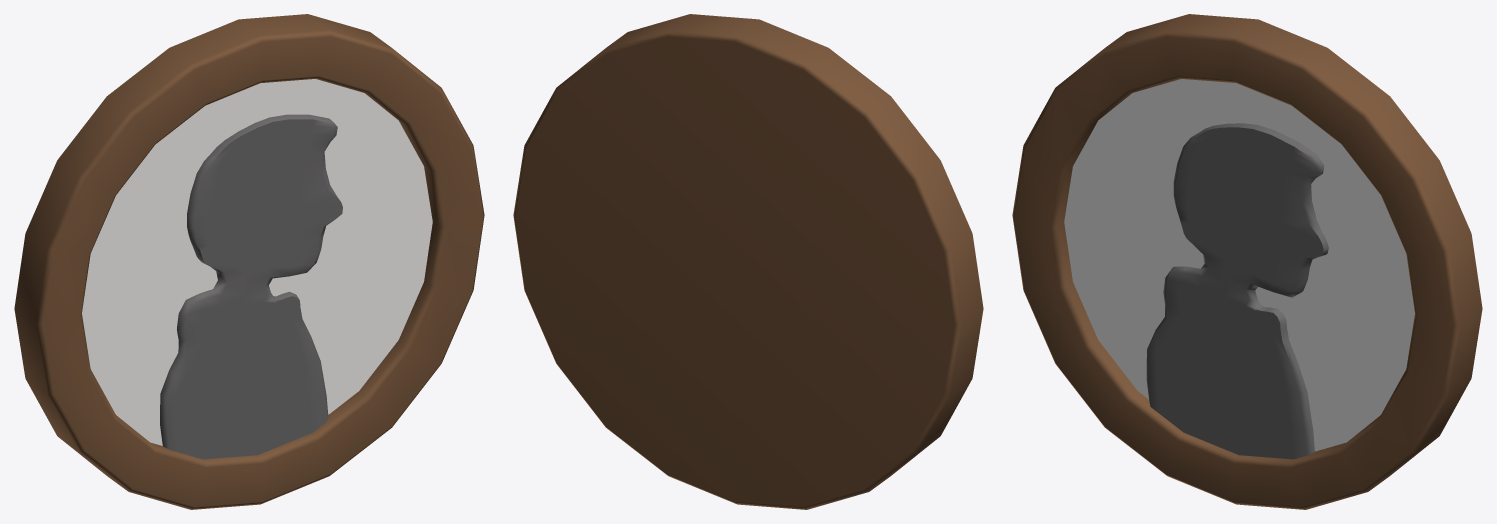
File: Painting_15.glb
3 views of the same model, side by side, from view 1: azimuth 30°, elevation 25°; view 2: azimuth 150°, elevation 25°; view 3: azimuth 330°, elevation 25° (orthographic).
Parts seen in each view (by area): view 1: Painting_15; view 2: Painting_15; view 3: Painting_15.
Boxes of the visible parts, box(x1,y1,x2,y2) form: Painting_15: box(14, 14, 484, 509); Painting_15: box(513, 14, 983, 509); Painting_15: box(1012, 14, 1482, 509).
Bounding box in the file's own units: 0.7097 × 0.7097 × 0.0741.
Materials: 1 (1 with a texture image).
